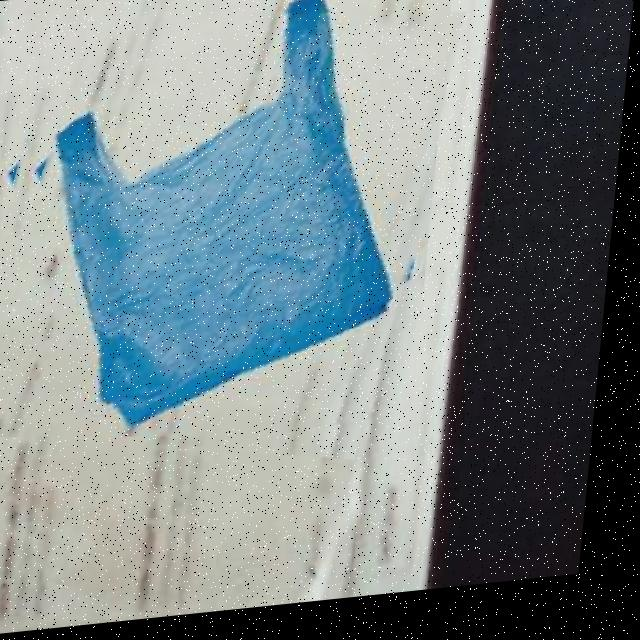litter: (0, 0, 455, 484)
